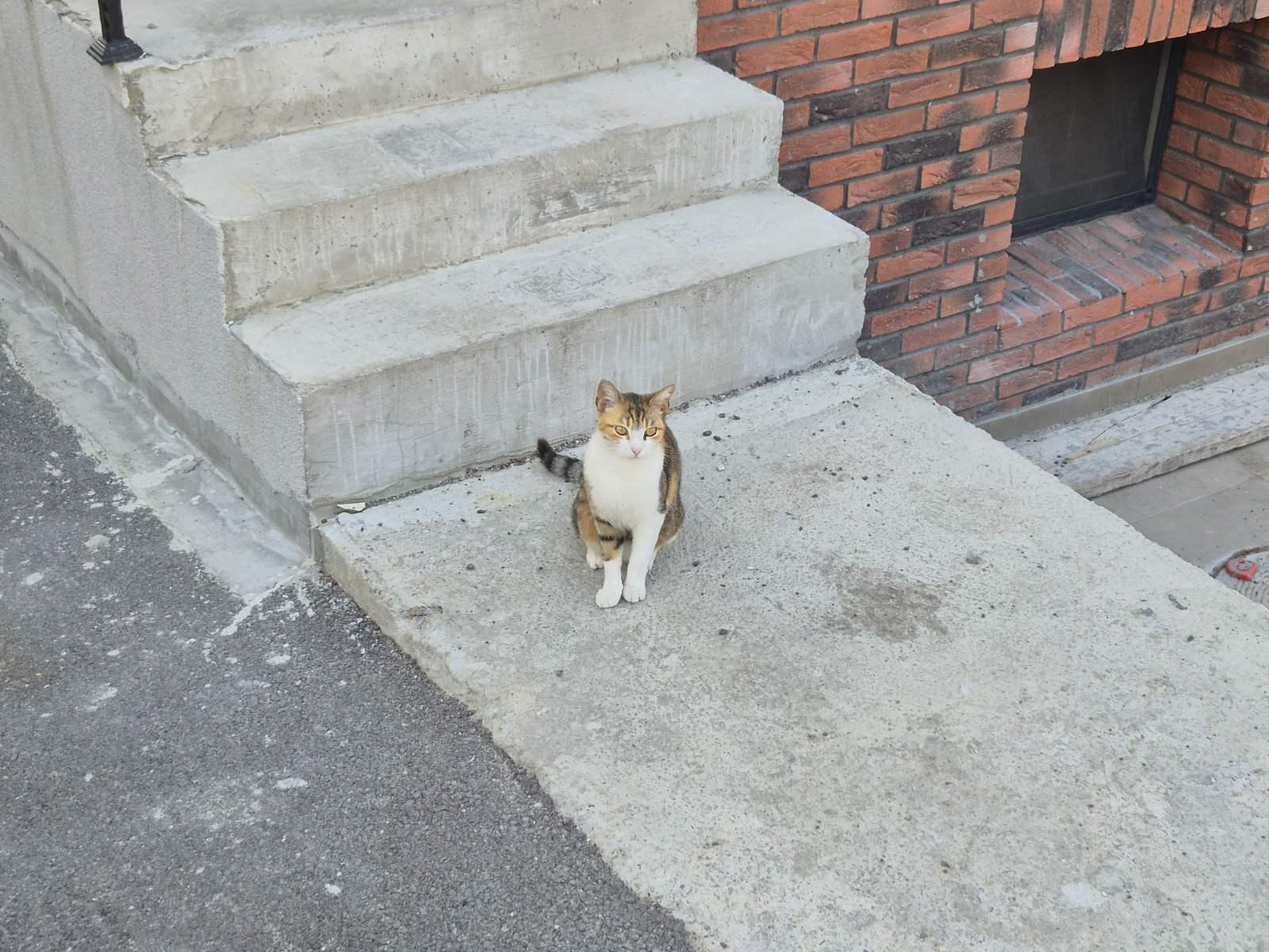macka: (538, 377, 684, 609)
